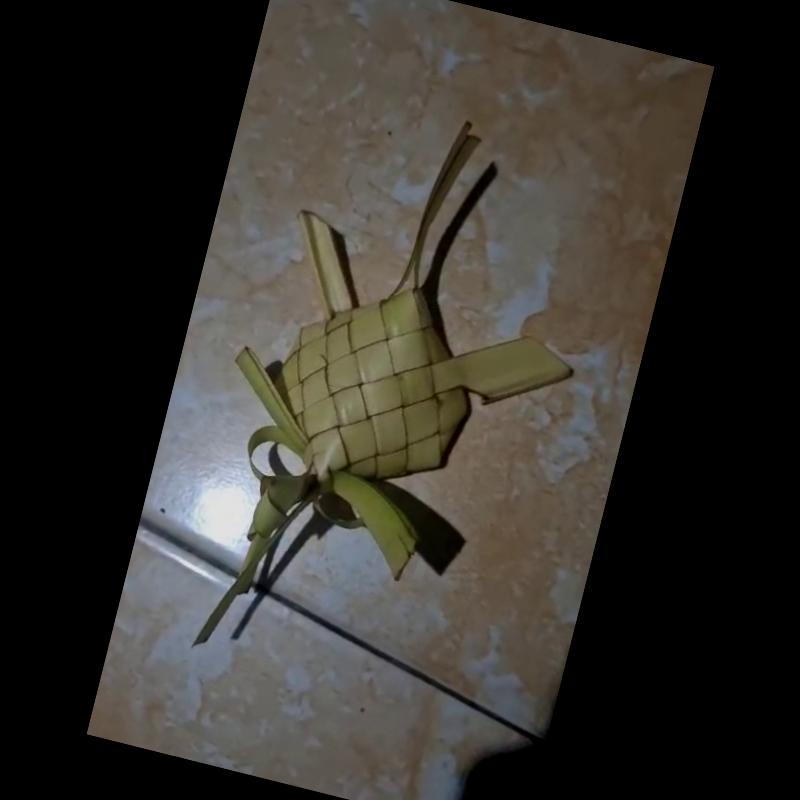Tipat Dampulan: (185, 116, 576, 655)
